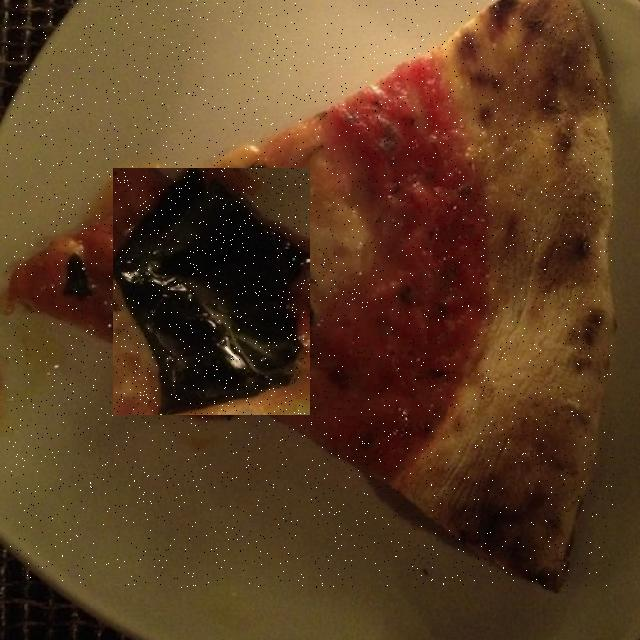Basil: (114, 168, 309, 415)
Pizza: (5, 0, 614, 588)
